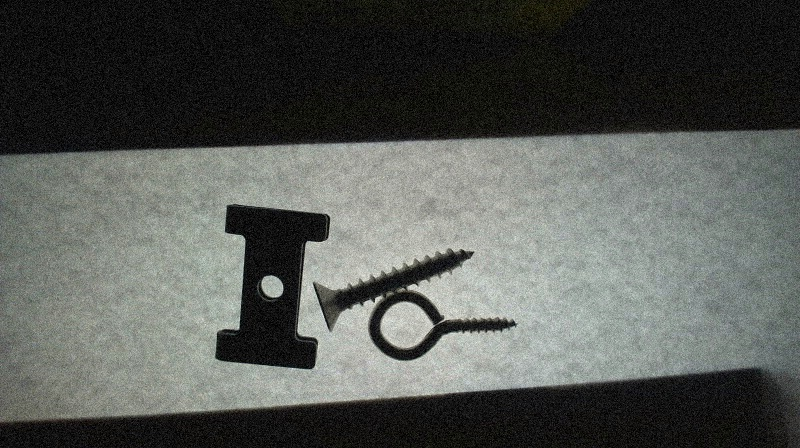O001: (367, 287, 521, 362)
O002: (213, 202, 333, 371)
S001: (311, 246, 476, 332)
